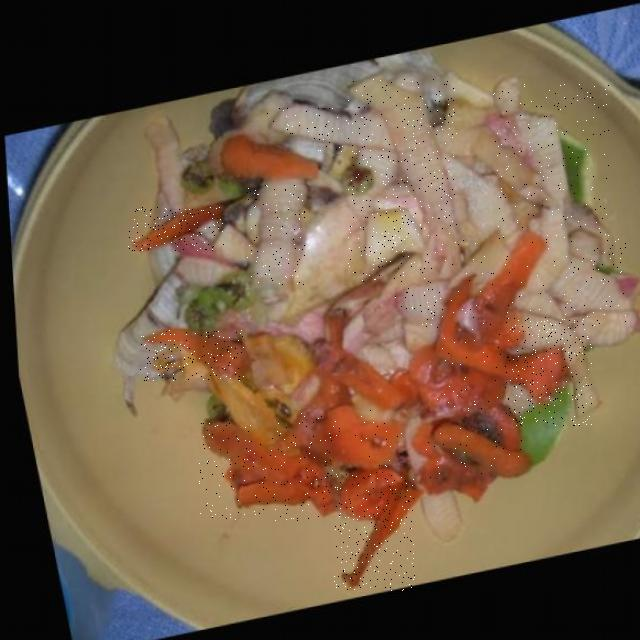biowaste: (494, 84, 609, 301), (430, 239, 564, 411), (349, 79, 457, 282), (198, 424, 332, 521), (334, 475, 416, 591), (506, 318, 592, 426), (543, 238, 626, 326), (295, 410, 402, 473), (247, 183, 305, 286), (267, 108, 391, 154), (427, 427, 523, 482), (141, 330, 244, 381), (219, 140, 314, 185), (129, 207, 224, 251), (362, 215, 423, 270), (395, 288, 443, 329)
